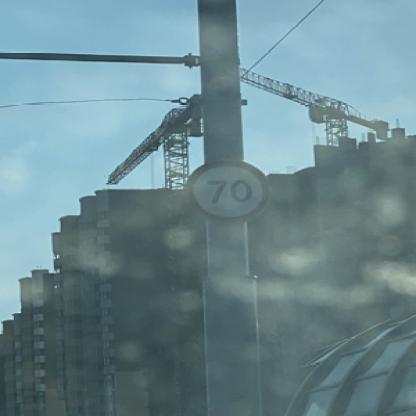speedlimit: (184, 159, 269, 222)
